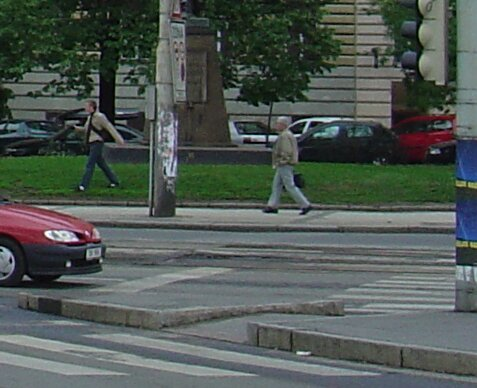person: (263, 113, 318, 216), (72, 100, 127, 190)
